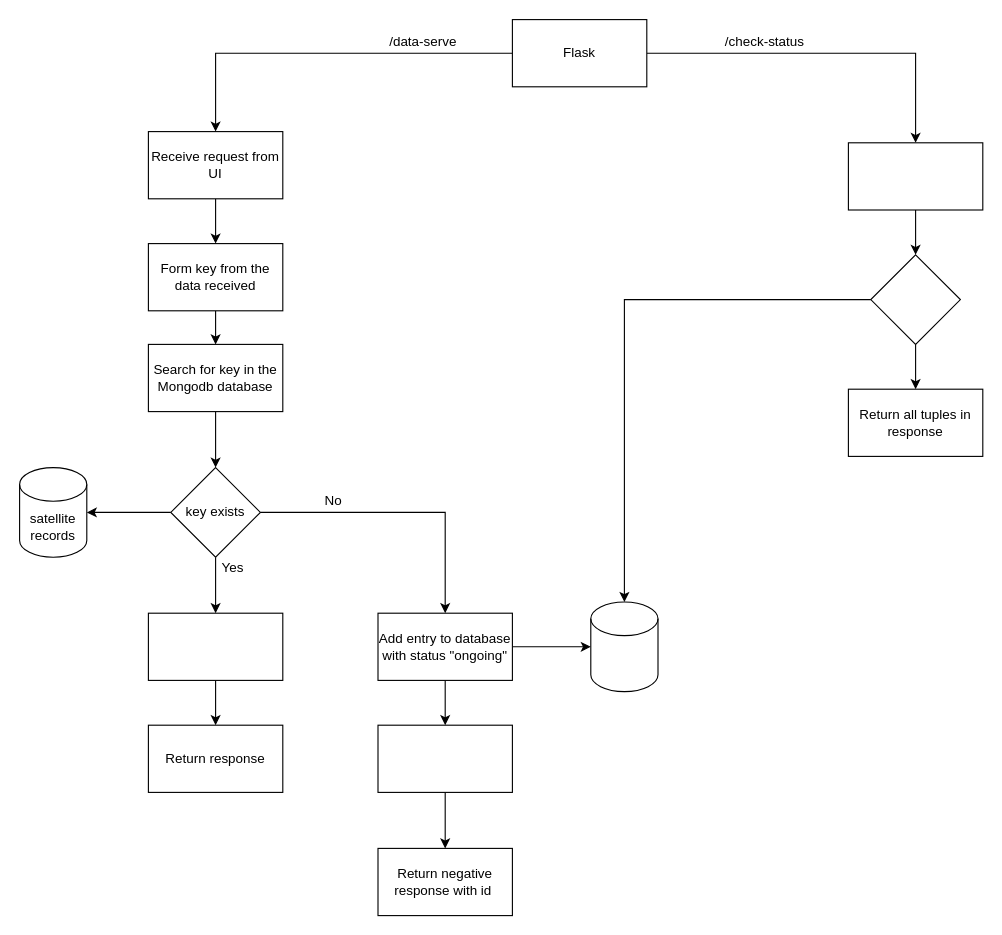
The diagram is 1002 pixels wide and 935 high, and some of its shapes have lost their labels. The centre of each missing label's shape, as x and y in pixels:
check email id: point (915, 299)
Filter out data as per request: point (215, 646)
Get request with id: point (915, 176)
Send request to data-extractor for this key: point (444, 758)
user request: point (624, 646)
